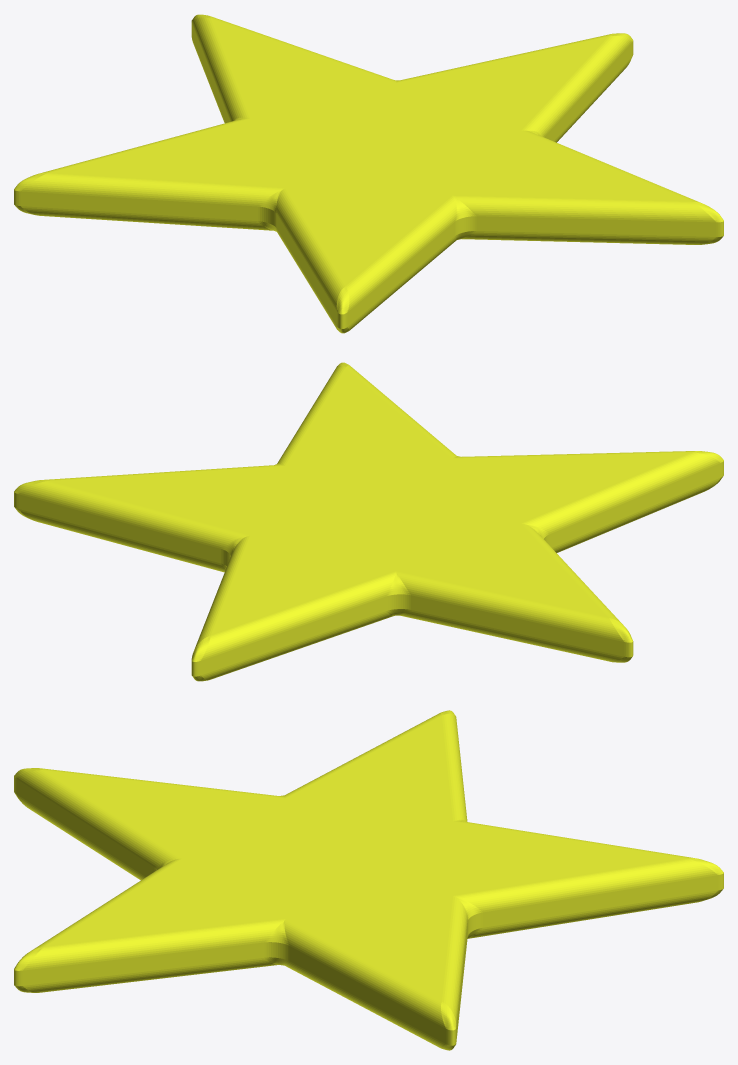
Rendered from star.obj.
3 renders of one model, top to bottom at view 1: azimuth 30°, elevation 25°; view 2: azimuth 150°, elevation 25°; view 3: azimuth 270°, elevation 25°, orthographic. The views are drawn at different scales.
Visible parts, largest first — view 1: Circle; view 2: Circle; view 3: Circle.
Boxes of the visible parts, x1=… form: Circle: x1=14, y1=14, x2=723, y2=333; Circle: x1=14, y1=362, x2=723, y2=681; Circle: x1=14, y1=710, x2=723, y2=1050.
Bounding box in the file's own units: 1.86 × 0.1202 × 1.77.
1 material, 1 textured.
